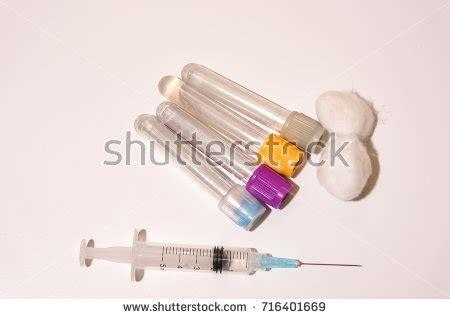cotton: (318, 131, 371, 201), (316, 91, 378, 141)
